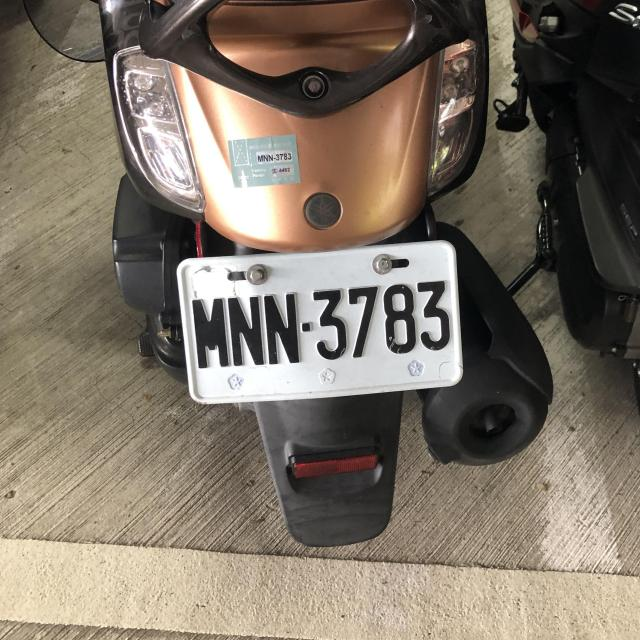W: (172, 239, 463, 405)
